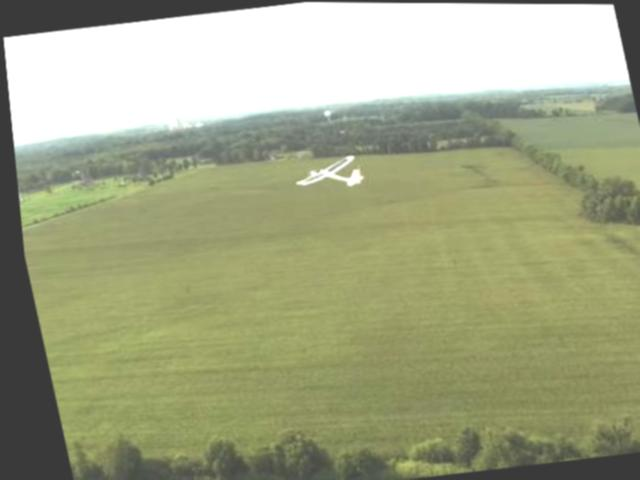uav: (272, 141, 370, 209)
